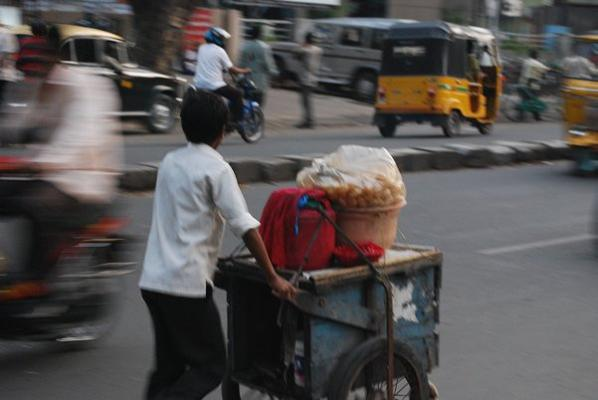person: (129, 86, 299, 400)
